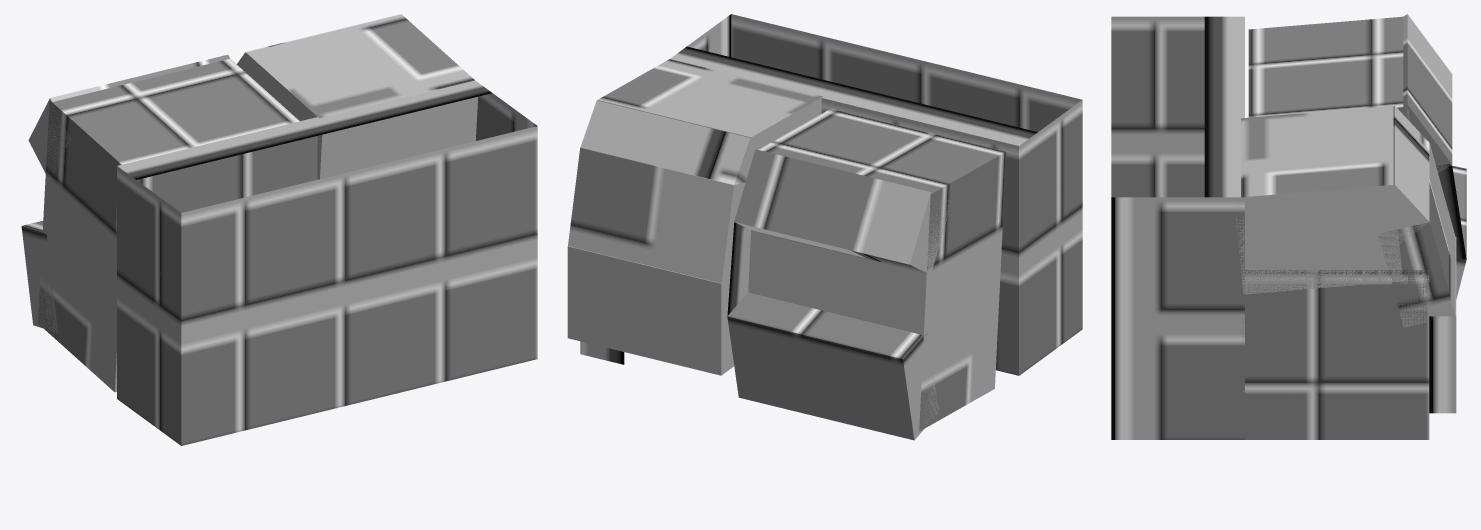
File: dna_extractor.obj
3 views of the same model, side by side, from view 1: azimuth 30°, elevation 25°; view 2: azimuth 150°, elevation 25°; view 3: azimuth 270°, elevation 25° (orthographic). The views are drawn at different scales.
Visible parts, largest first — view 1: machine; view 2: machine; view 3: machine.
Boxes of the visible parts, bbox=[...] form: machine: bbox=[21, 14, 537, 445]; machine: bbox=[567, 14, 1082, 440]; machine: bbox=[1111, 14, 1466, 439].
Bounding box in the file's own units: 1 × 0.8539 × 0.831.
